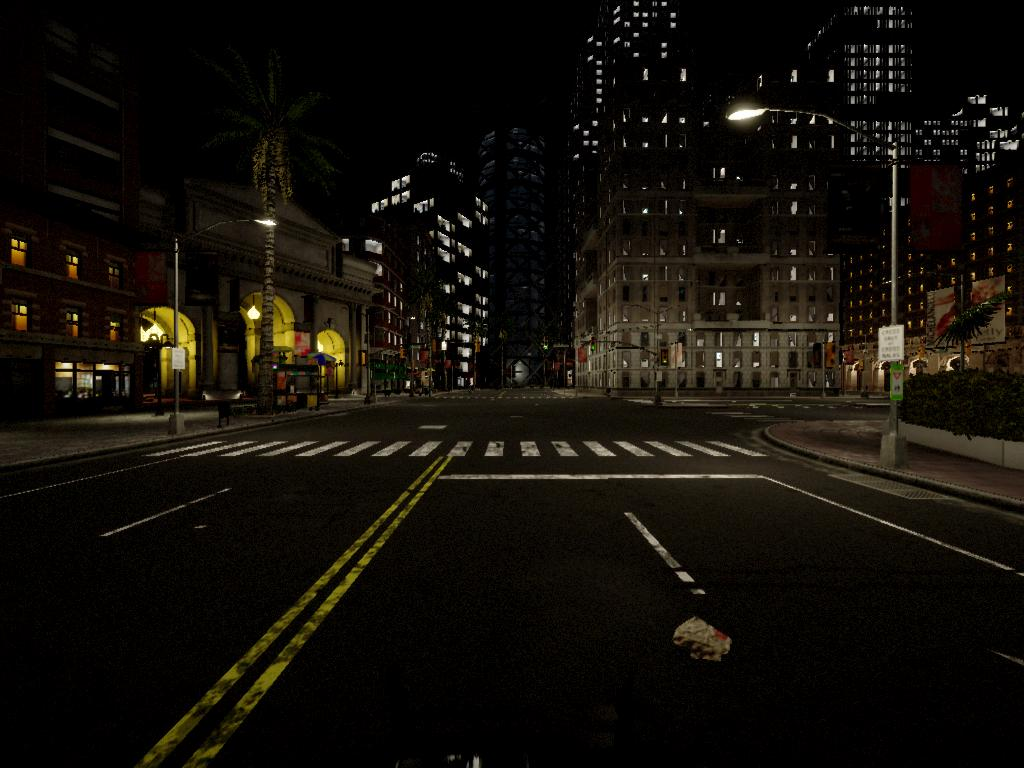traffic_light: (661, 351, 671, 368), (544, 336, 550, 352), (591, 338, 596, 354), (402, 348, 407, 360), (433, 341, 438, 353), (477, 342, 481, 353)
